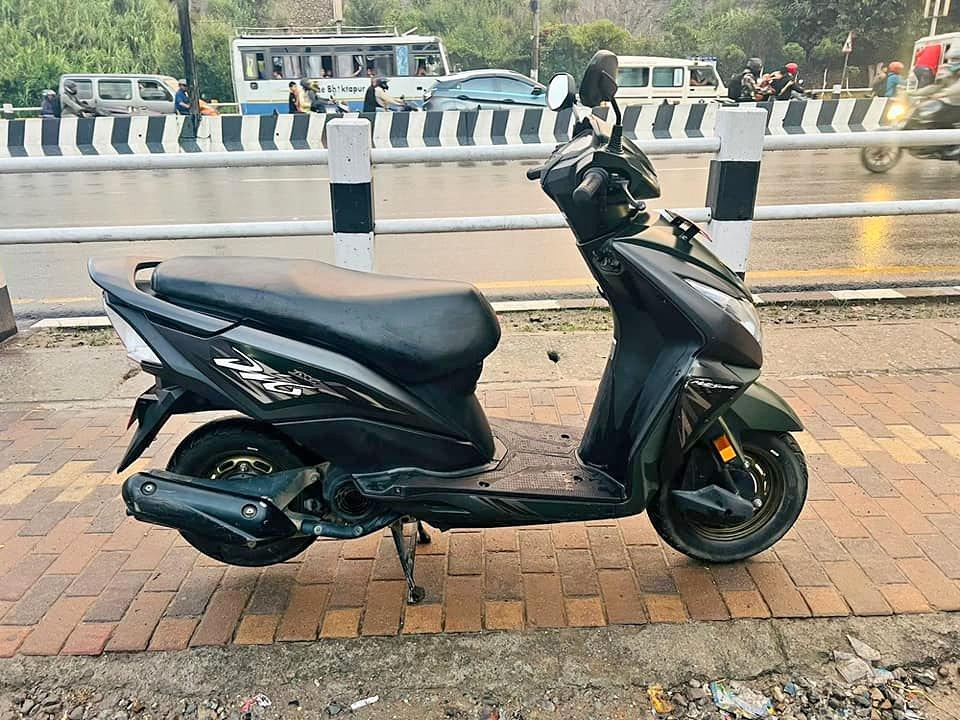scooter: (83, 47, 810, 598)
